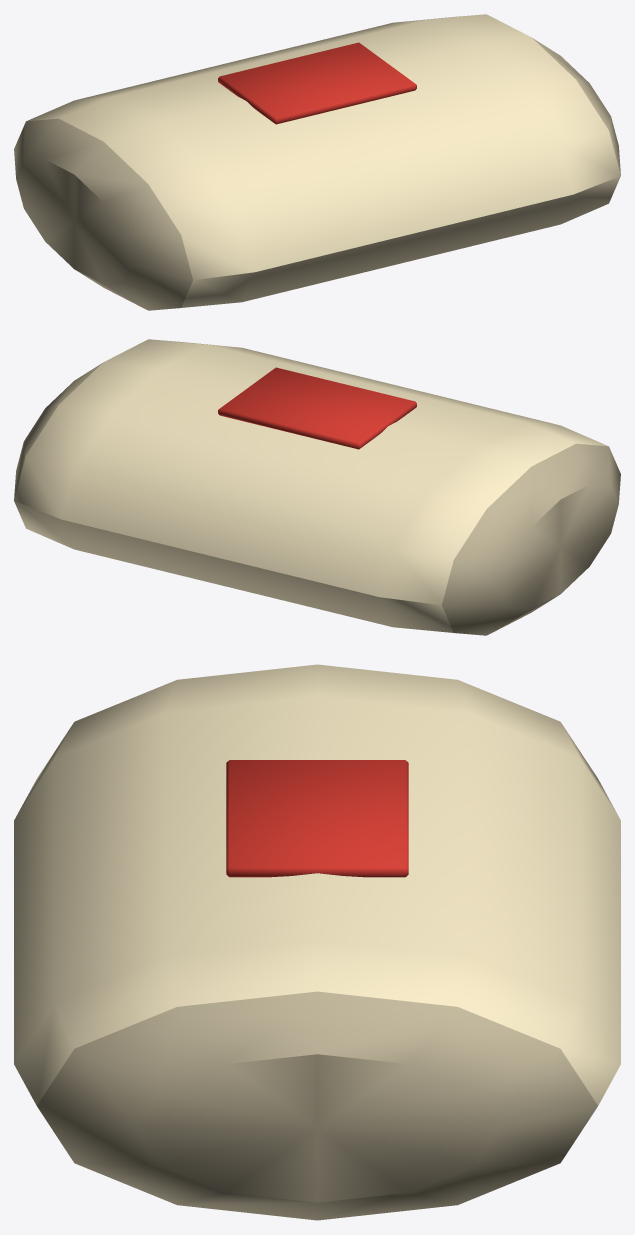
Rendered from SM_Sack_Flour_01.glb.
The picture shows the model from 3 angles, top to bottom: view 1: azimuth 30°, elevation 25°; view 2: azimuth 150°, elevation 25°; view 3: azimuth 270°, elevation 25°; orthographic projection. The views are drawn at different scales.
Parts seen in each view (by area): view 1: SM_Sack_Flour_01; view 2: SM_Sack_Flour_01; view 3: SM_Sack_Flour_01.
Part boxes in pixels (x1,y1,x2,y2): SM_Sack_Flour_01: [14, 14, 620, 310]; SM_Sack_Flour_01: [14, 339, 620, 635]; SM_Sack_Flour_01: [14, 664, 620, 1220].
Size of the model in its own units: 0.58 by 0.184 by 0.4.
1 material, 1 textured.
